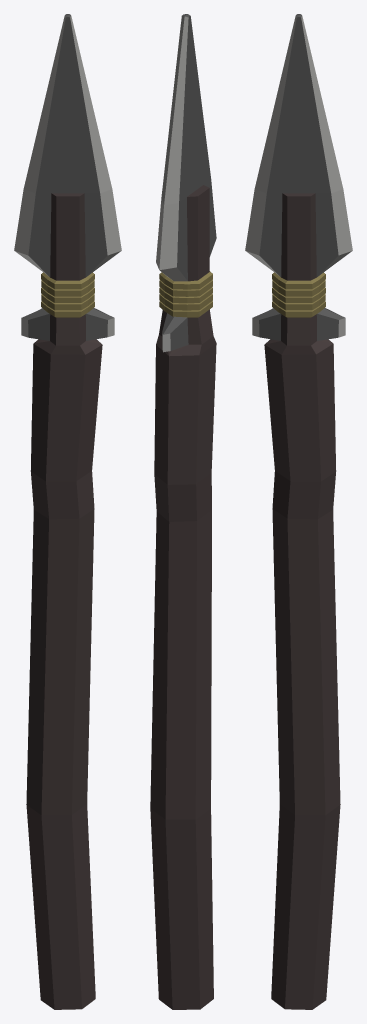
Rendered from Primitive_Spear.fbx.
3 renders of one model, left to right at view 1: azimuth 90°, elevation 25°; view 2: azimuth 150°, elevation 25°; view 3: azimuth 270°, elevation 25°, orthographic.
Visible parts, largest first — view 1: Primitive_Spear; view 2: Primitive_Spear; view 3: Primitive_Spear.
Part boxes in pixels (<box>): Primitive_Spear: <box>14,14,121,1009</box>; Primitive_Spear: <box>150,14,216,1009</box>; Primitive_Spear: <box>245,14,352,1009</box>.
Bounding box in the file's own units: 23.07 × 475 × 47.11.
